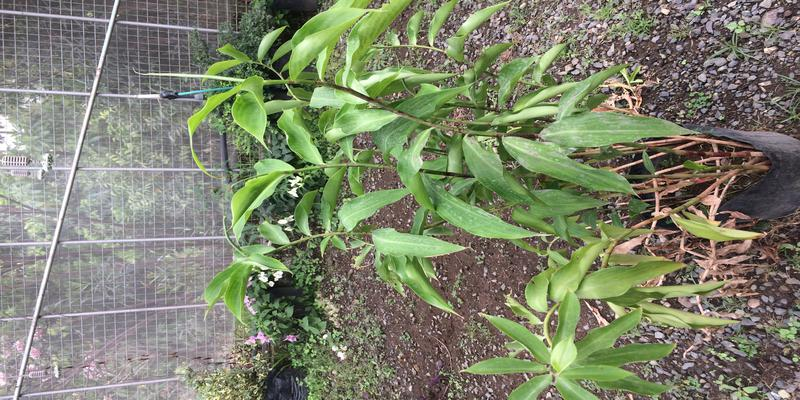Insulin: (252, 76, 737, 268)
